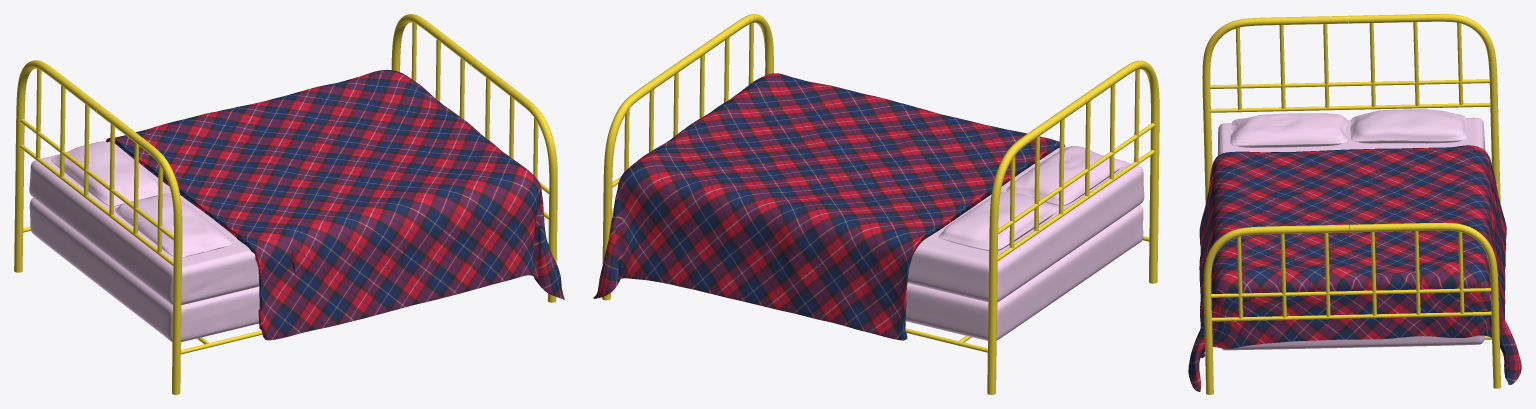
File: brass_bed.glb
The picture shows the model from 3 angles, left to right: view 1: azimuth 30°, elevation 25°; view 2: azimuth 150°, elevation 25°; view 3: azimuth 270°, elevation 25°; orthographic projection. The views are drawn at different scales.
Visible parts, largest first — view 1: Plane.001, Bed_Frame, Mattress, Box_Spring, Pillow_1, Pillow_2; view 2: Plane.001, Bed_Frame, Mattress, Box_Spring, Pillow_2, Pillow_1; view 3: Plane.001, Bed_Frame, Pillow_1, Pillow_2, Mattress, Box_Spring.
Boxes of the visible parts, x1,y1,x2,y2 form: Plane.001: [105, 69, 564, 340]; Bed_Frame: [14, 14, 557, 394]; Mattress: [29, 141, 259, 305]; Box_Spring: [29, 198, 259, 342]; Pillow_1: [115, 193, 232, 257]; Pillow_2: [51, 141, 163, 206]; Plane.001: [593, 73, 1065, 340]; Bed_Frame: [602, 14, 1159, 394]; Mattress: [907, 147, 1144, 302]; Box_Spring: [905, 204, 1143, 340]; Pillow_2: [938, 192, 1058, 250]; Pillow_1: [1006, 146, 1126, 205]; Plane.001: [1188, 145, 1521, 391]; Bed_Frame: [1202, 14, 1501, 394]; Pillow_1: [1230, 113, 1347, 147]; Pillow_2: [1350, 109, 1467, 143]; Mattress: [1218, 117, 1485, 155]; Box_Spring: [1221, 335, 1484, 350].
Size of the model in its own units: 2.83 by 1.64 by 2.33.
Materials: 3 (1 with a texture image).
